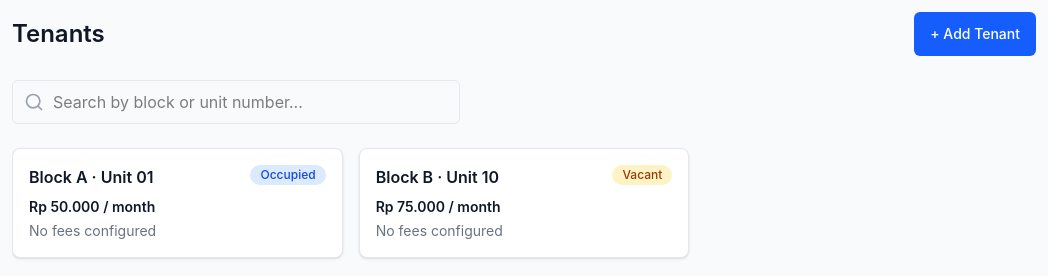
TenantListPage › search filters by unit_number
Type "10" into the search field with placeholder "Search by block or unit number..." at (236, 102), box [12,80,460,124]
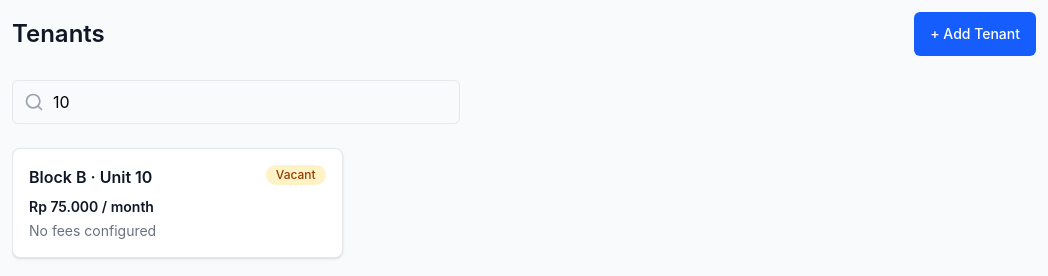
Check: the text "Block B · Unit 10" is shown, box [29,165,152,189]
Check: the button "Unit 01" is gone
